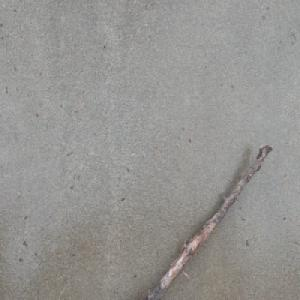Wood: (140, 142, 273, 300)
